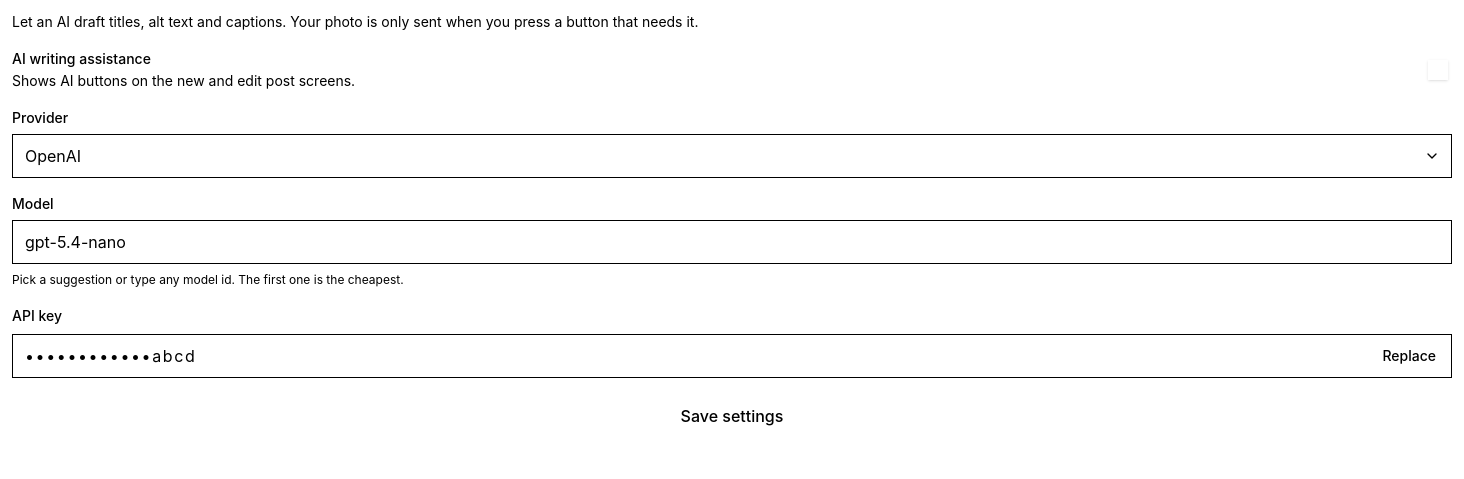
it: AiSettingsForm › Given a 422 answer, should show the invalid alert
Click the button "Save settings" at (732, 416), box [12,394,1452,438]
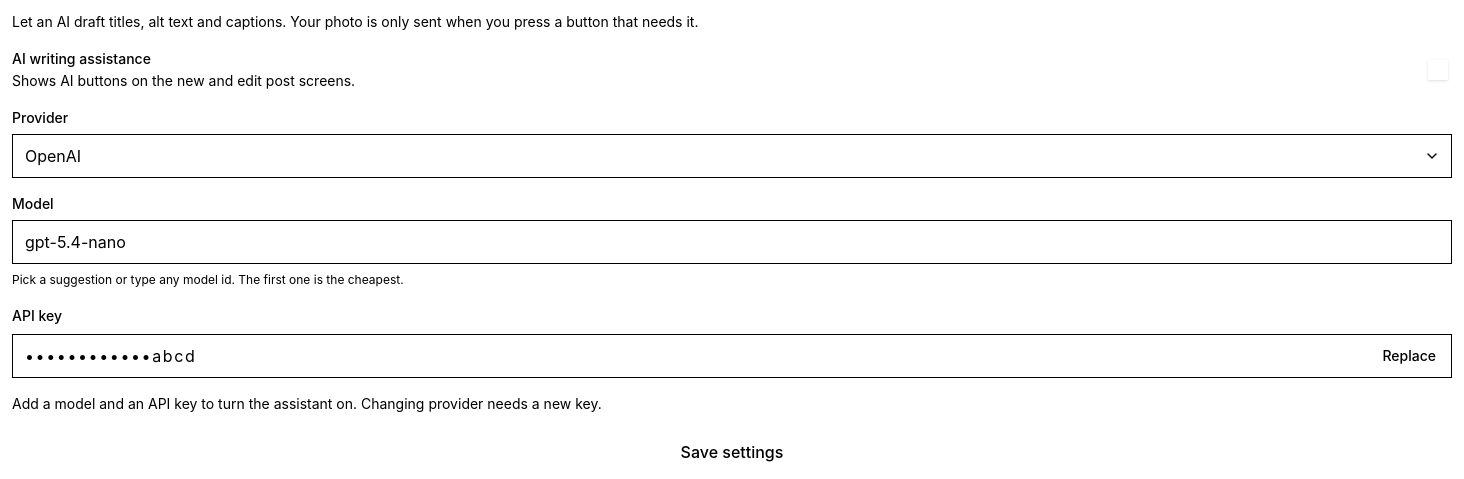
Check: the message shows "Add a model and an API key", box [12,394,602,412]
